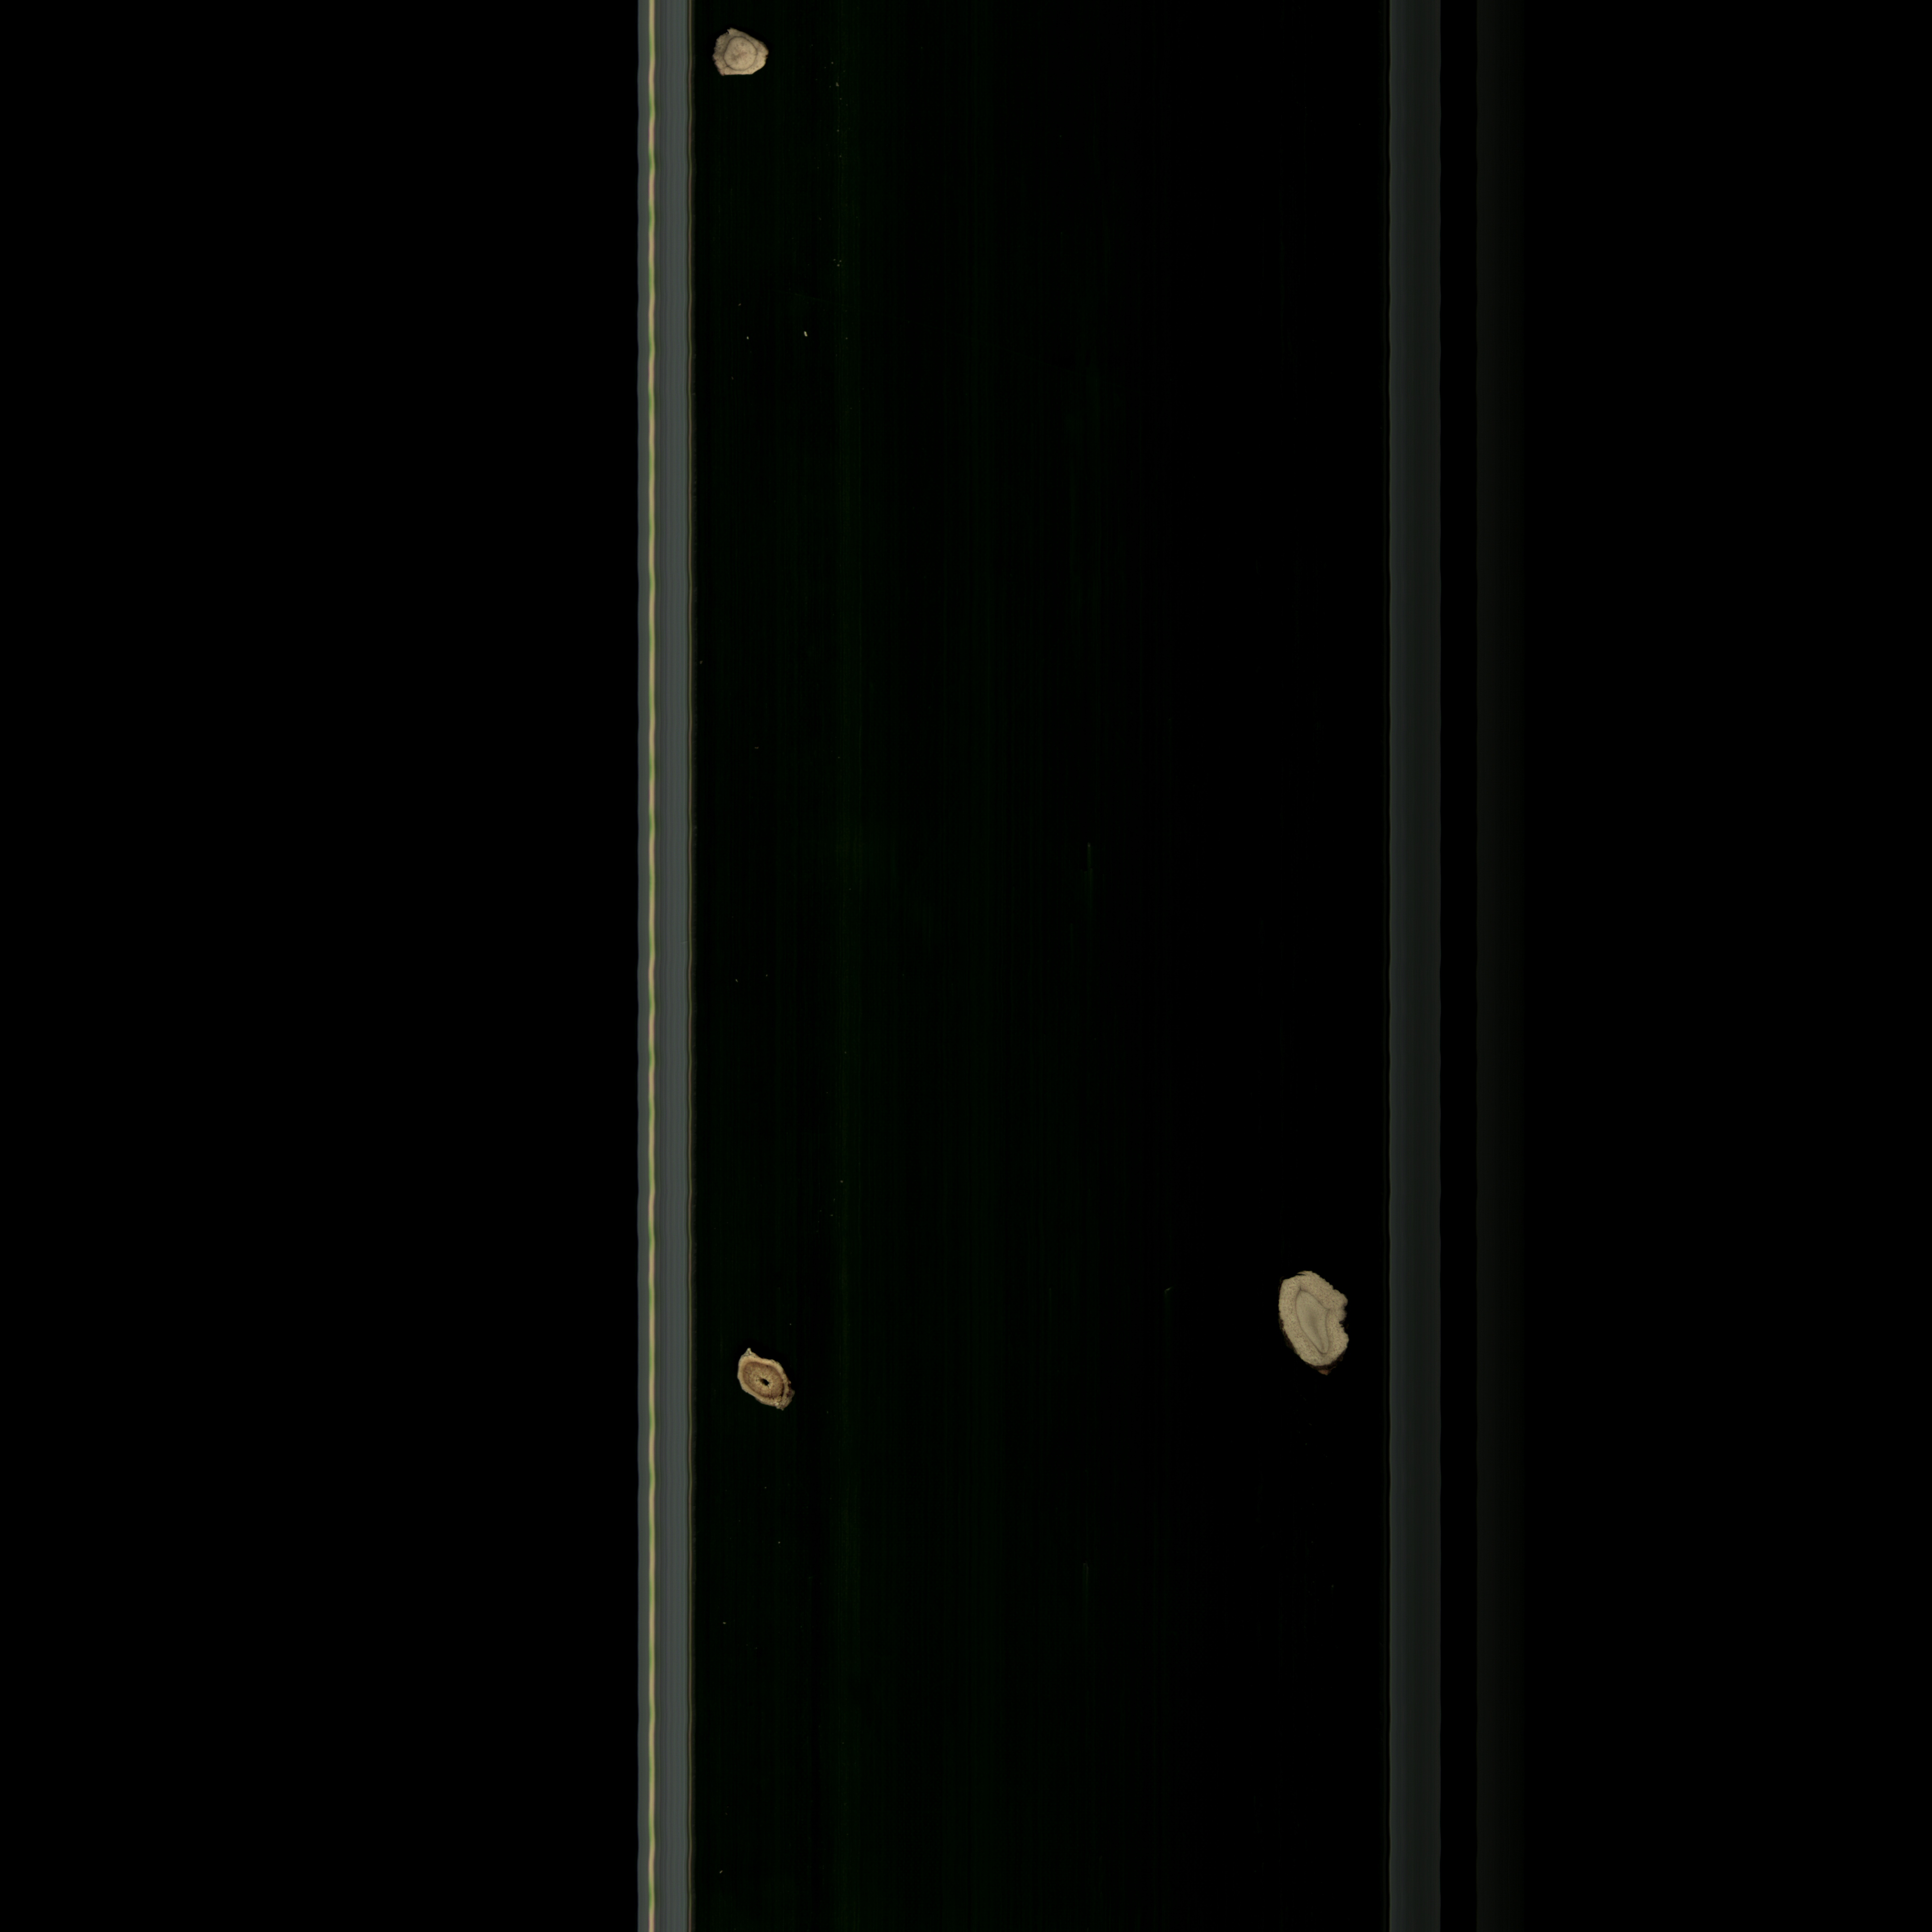distortion: (1270, 1261, 1364, 1380)
moldy: (731, 1339, 810, 1419), (702, 21, 775, 85)
